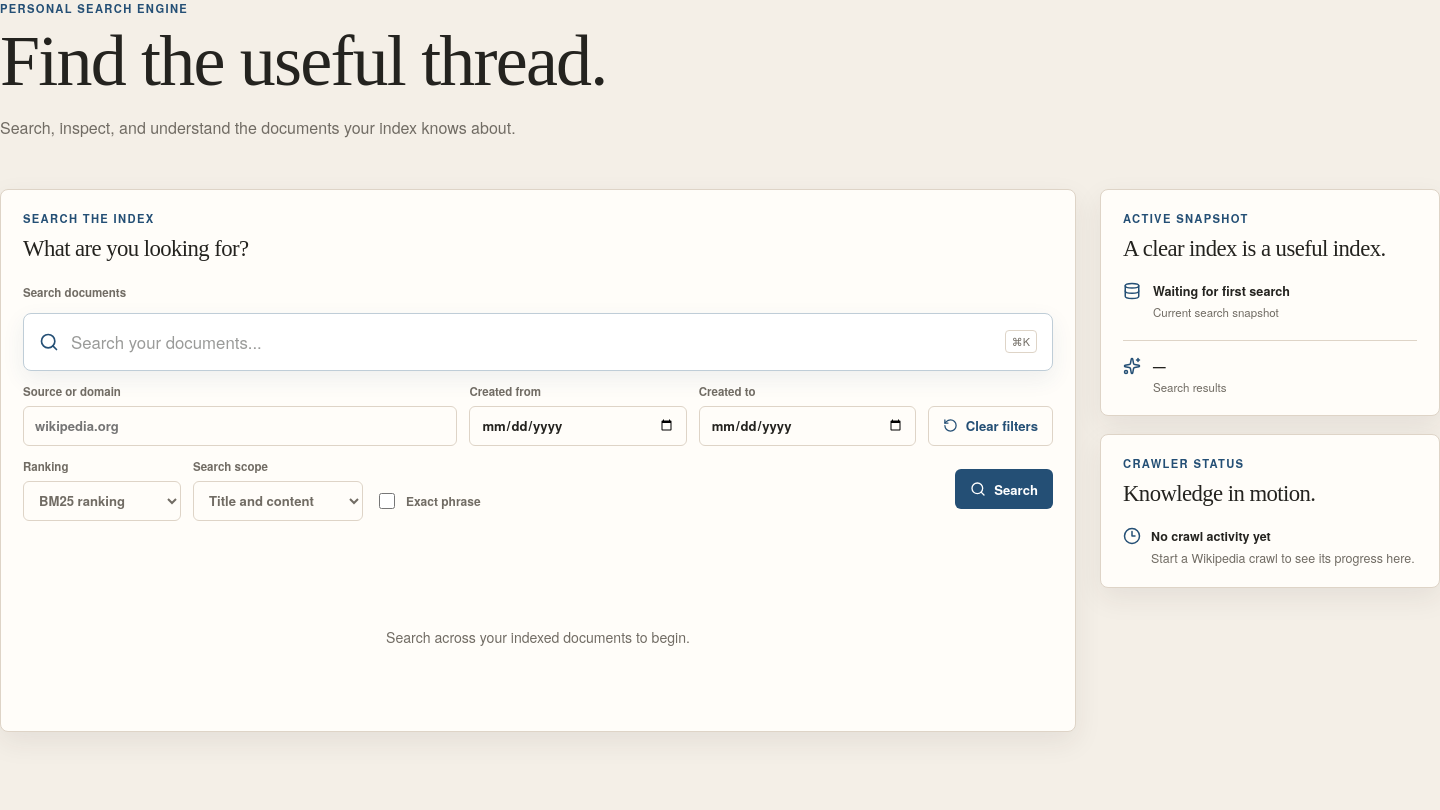
Scenario: WorkspacePage › loads and renders a BM25 score explanation
Step 1. Type "information retrieval" into the search field labelled "Search documents" → (532, 342), box [69,329,995,355]
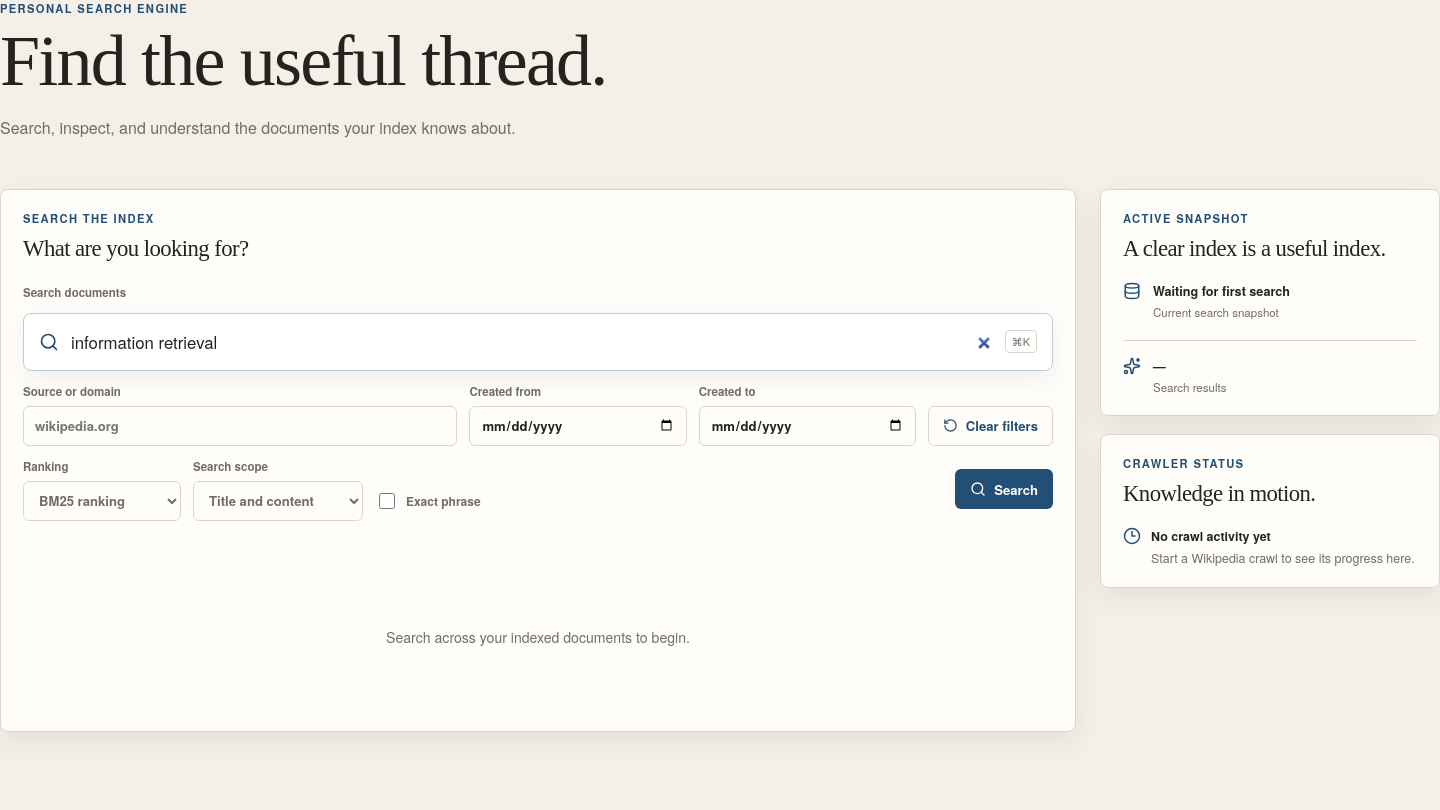
Step 2. Click the button "Search" → (1004, 489), box [955,469,1053,509]
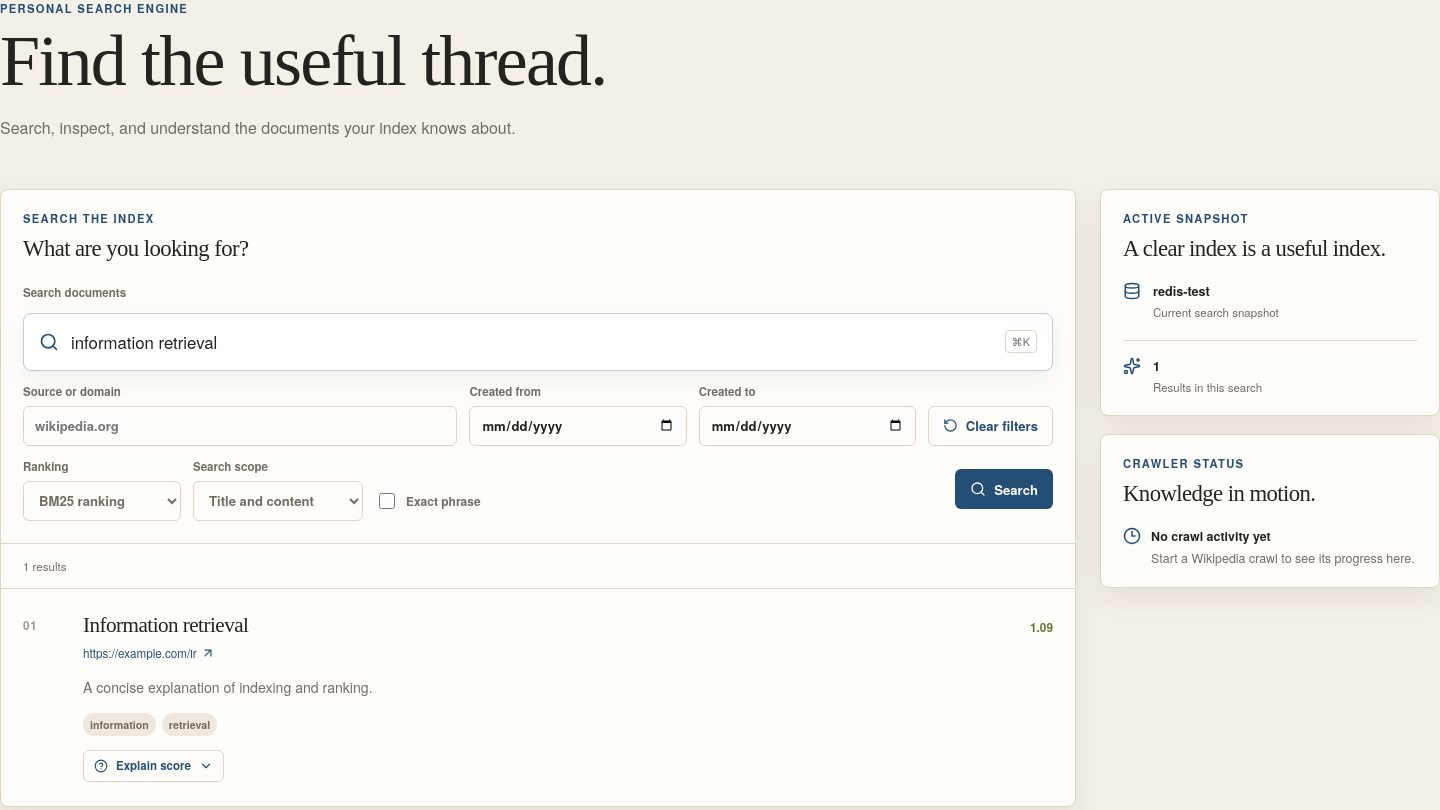
Now the heading "Information retrieval" is shown, box [83,613,248,638]
Step 3. Click the button "Explain score" → (154, 766), box [83,750,224,782]
(page scrolled)
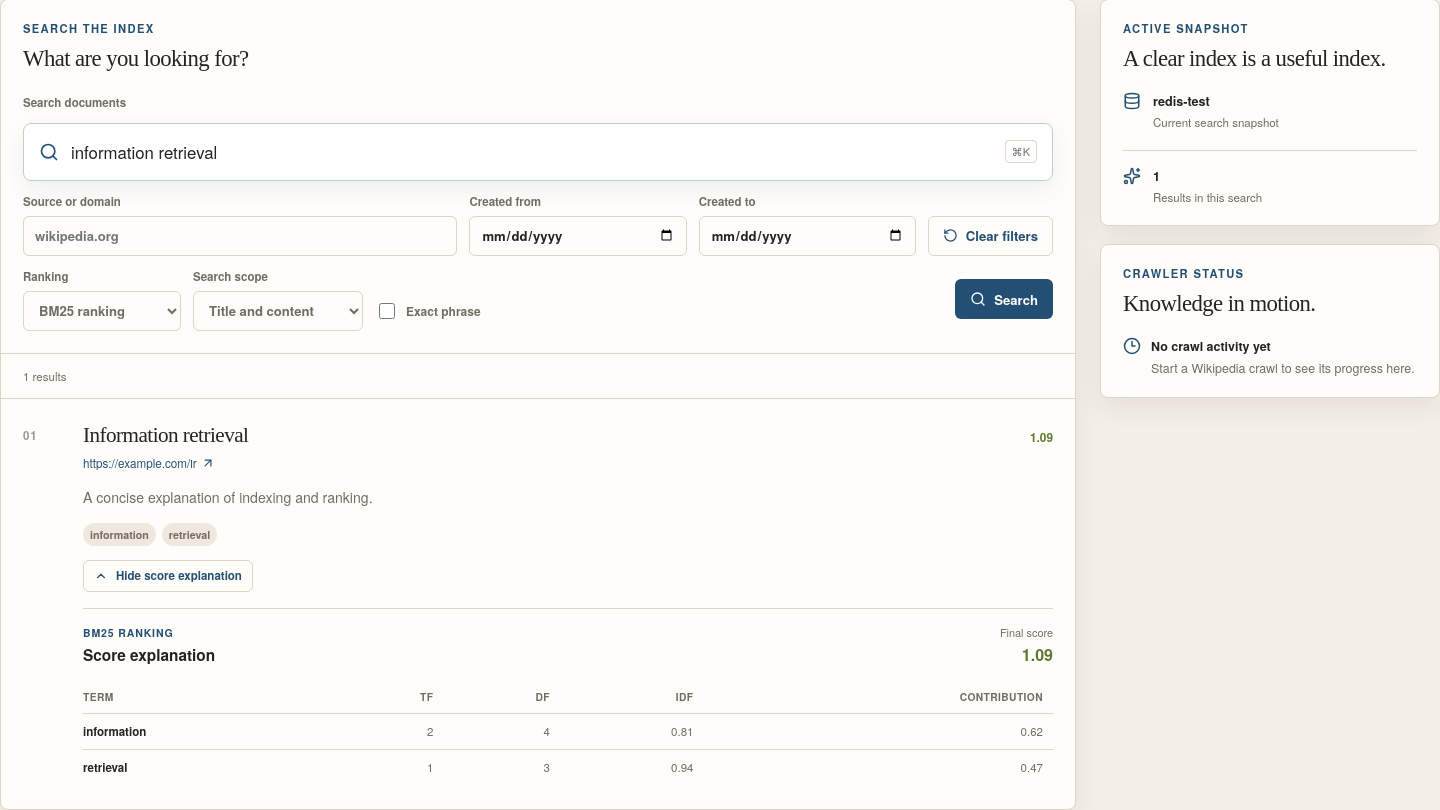
Now the heading "Score explanation" is shown, box [83,644,215,666]
Now the text "Final score" is shown, box [1000,625,1053,640]
Now the text "0.62" is shown, box [704,714,1053,749]
